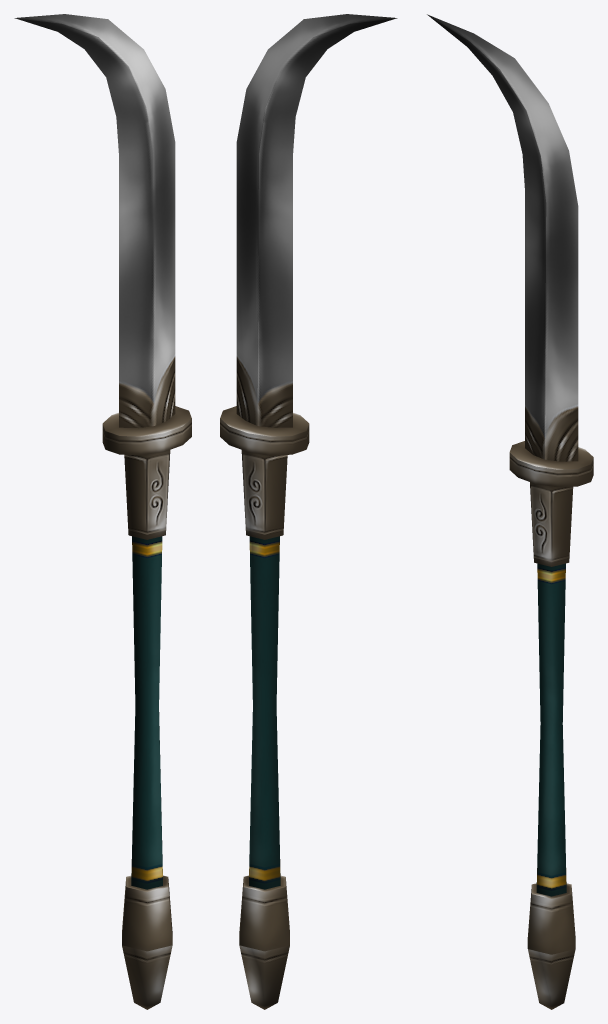
Rendered from Broadsword02.FBX.
The picture shows the model from 3 angles, left to right: view 1: azimuth 30°, elevation 25°; view 2: azimuth 150°, elevation 25°; view 3: azimuth 330°, elevation 25°; orthographic projection. The views are drawn at different scales.
Parts seen in each view (by area): view 1: Broadsword02; view 2: Broadsword02; view 3: Broadsword02.
Boxes of the visible parts, x1,y1,x2,y2 form: Broadsword02: (14, 14, 191, 1009); Broadsword02: (220, 14, 397, 1009); Broadsword02: (427, 14, 593, 1009).
Size of the model in its own units: 67.74 by 379 by 22.73.
